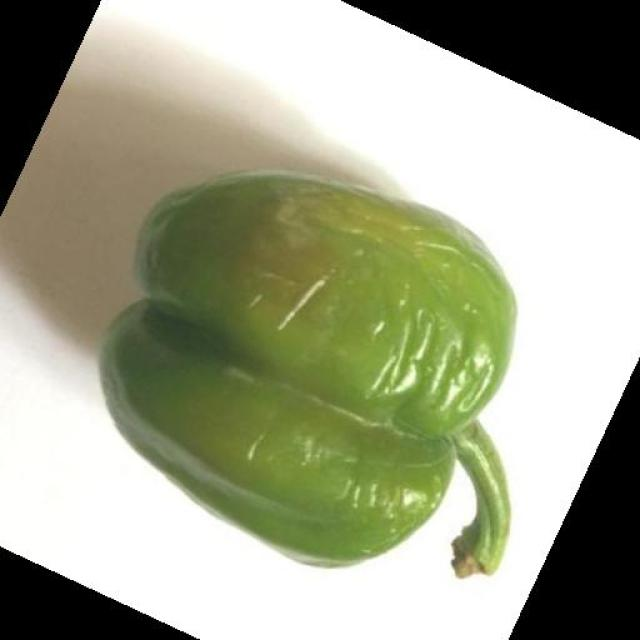Stale_Capsicum: (157, 152, 474, 563)
